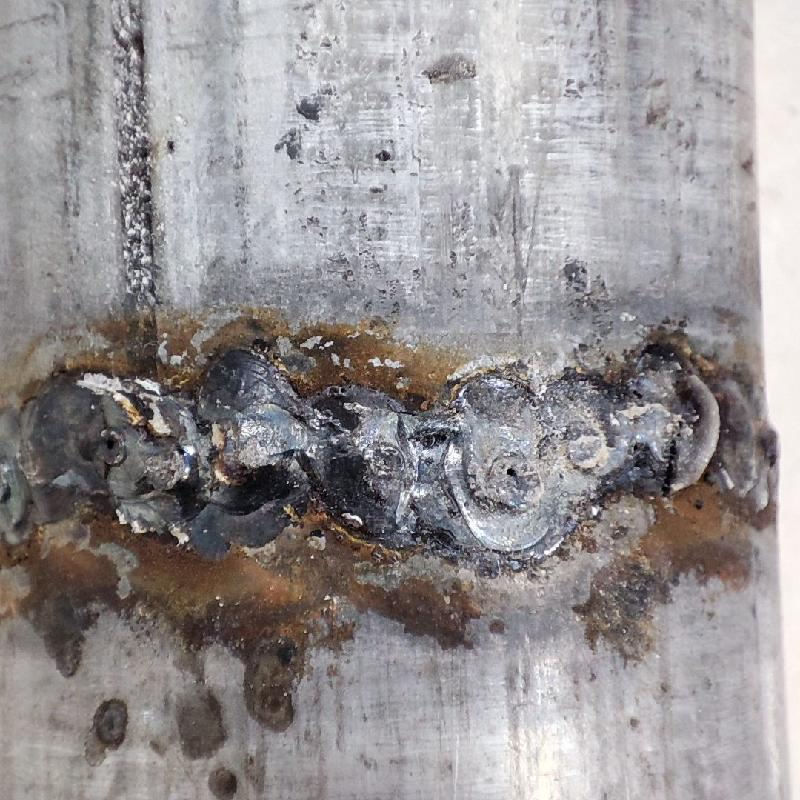Not_fully_soldered: (436, 376, 624, 525)
Surface_pores: (483, 452, 543, 505), (92, 429, 130, 467)
wrong_size: (8, 355, 421, 540), (658, 359, 795, 524)
